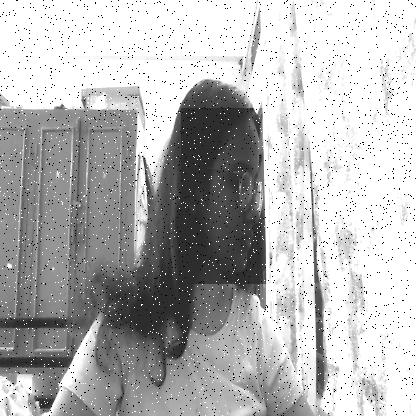Distracted: (181, 108, 273, 284)
